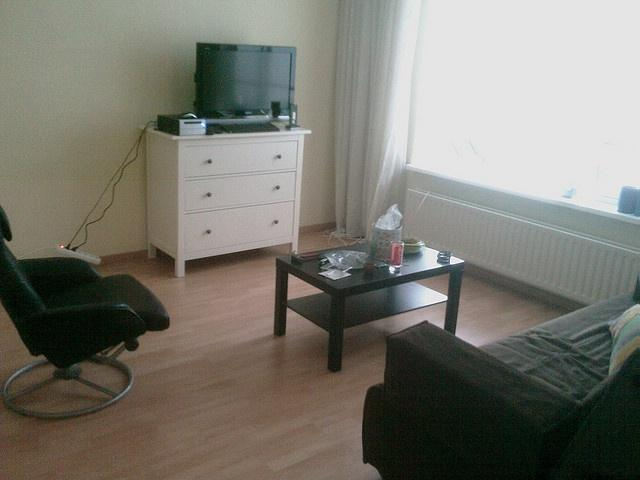AIO PC-Monitor-TV: (194, 42, 297, 124)
Meja: (271, 235, 466, 372)
